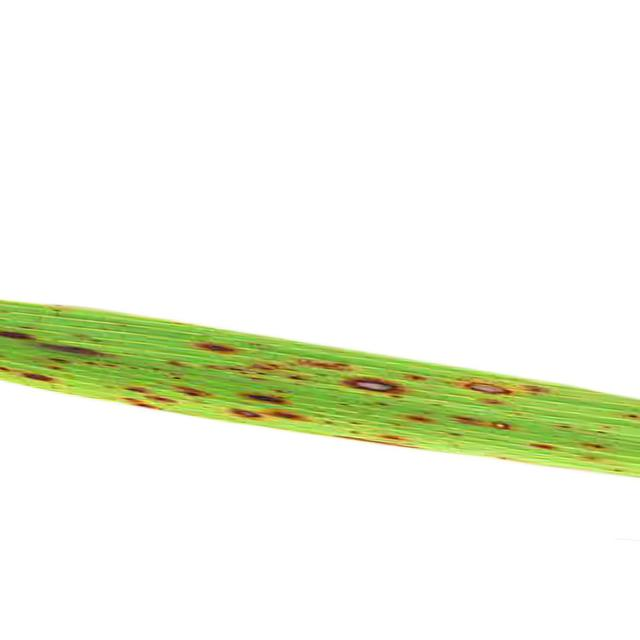Brown_Spot: (42, 344, 102, 356), (192, 342, 235, 354), (0, 332, 36, 340)
